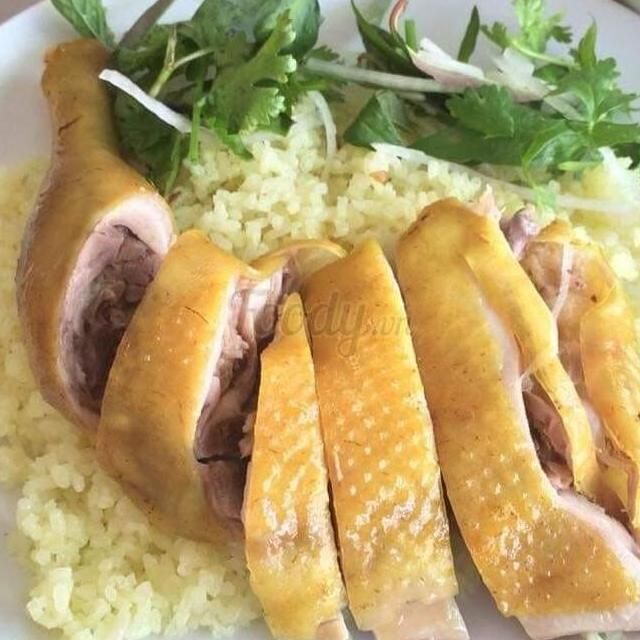com: (150, 84, 640, 275), (0, 412, 268, 640), (0, 145, 78, 493), (574, 196, 640, 392)
com ga: (0, 0, 640, 640)
rau ram: (337, 0, 640, 186), (85, 0, 335, 184)
thit ga: (380, 176, 640, 640), (230, 229, 477, 640), (8, 32, 182, 436), (86, 220, 280, 550)
